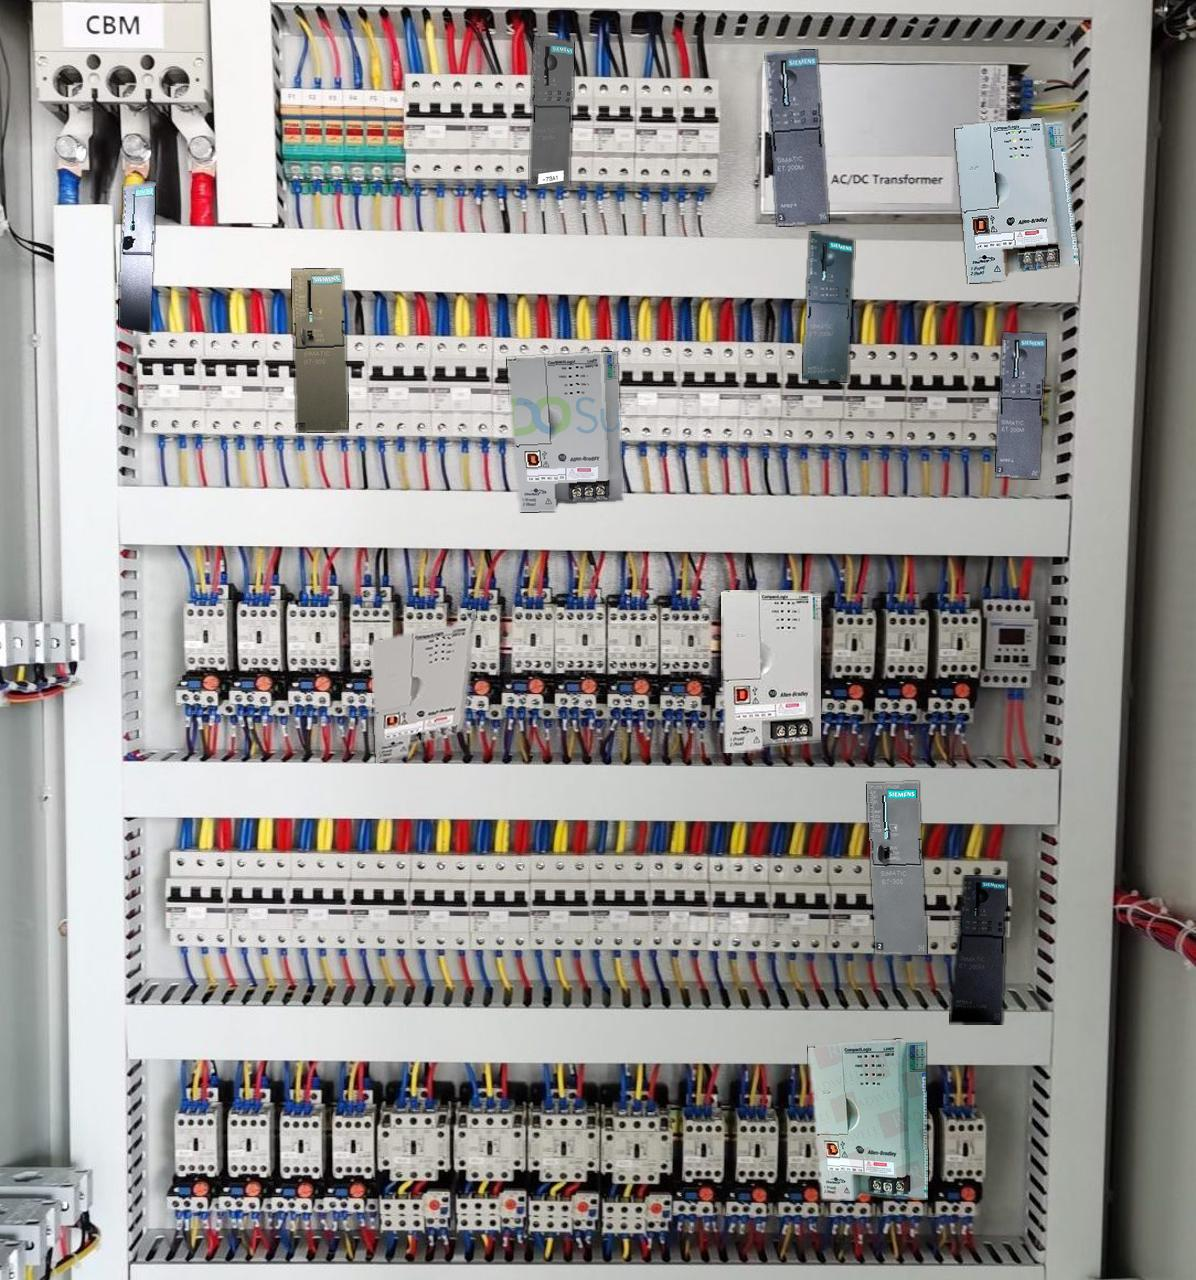AllenBradley: (954, 117, 1078, 283), (808, 1040, 927, 1200), (507, 351, 622, 511), (721, 590, 819, 752), (371, 609, 475, 762)
Siemens: (866, 782, 927, 954), (291, 269, 348, 432), (119, 182, 155, 333)
